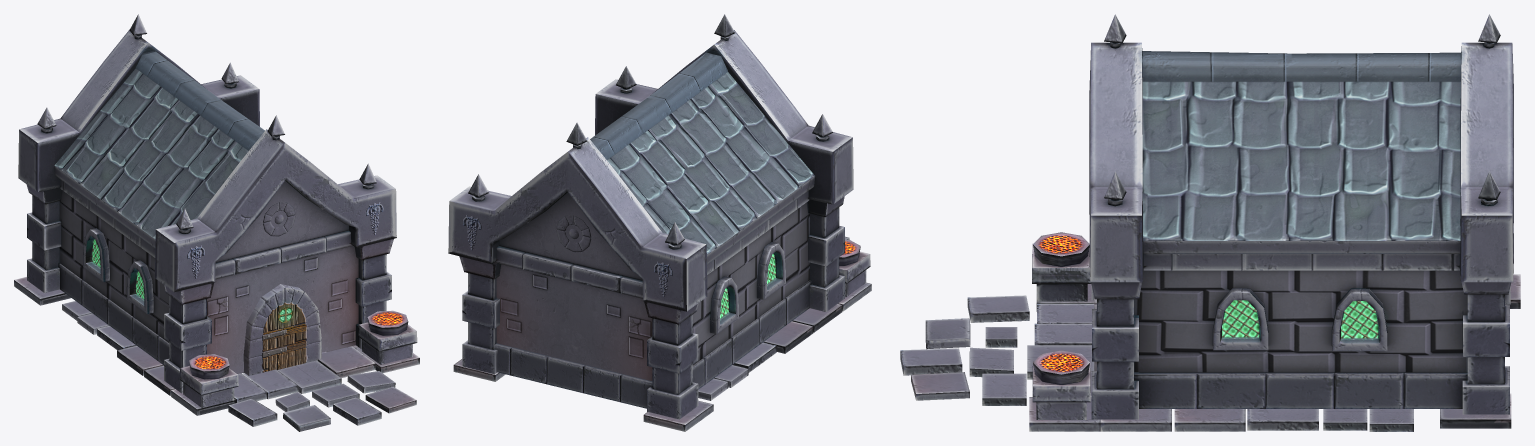
The model's file is mausoleum_stylized.glb.
The picture shows the model from 3 angles, left to right: view 1: azimuth 30°, elevation 25°; view 2: azimuth 150°, elevation 25°; view 3: azimuth 270°, elevation 25°; orthographic projection. The views are drawn at different scales.
Visible parts, largest first — view 1: MAUS2:polySurface1; view 2: MAUS2:polySurface1; view 3: MAUS2:polySurface1.
Boxes of the visible parts, x1,y1,x2,y2 form: MAUS2:polySurface1: (14,14,419,431); MAUS2:polySurface1: (448,14,871,431); MAUS2:polySurface1: (900,14,1520,431).
Size of the model in its own units: 6.33 by 6.87 by 11.18.
Materials: 1 (1 with a texture image).
